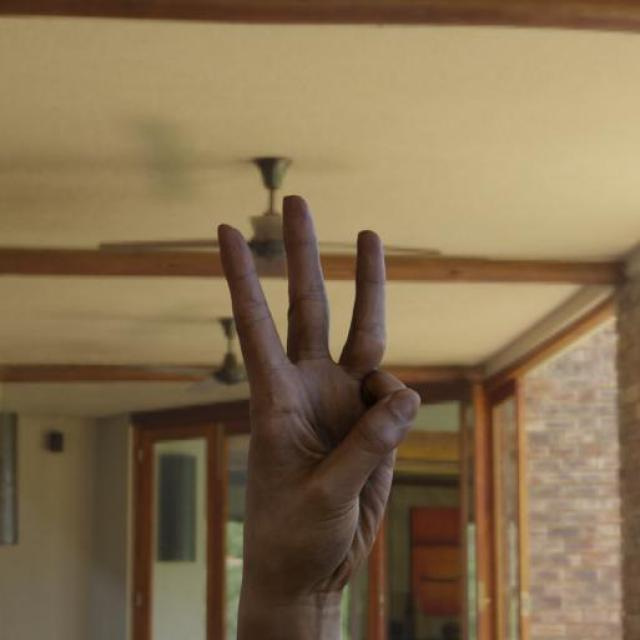W: (209, 190, 426, 602)
